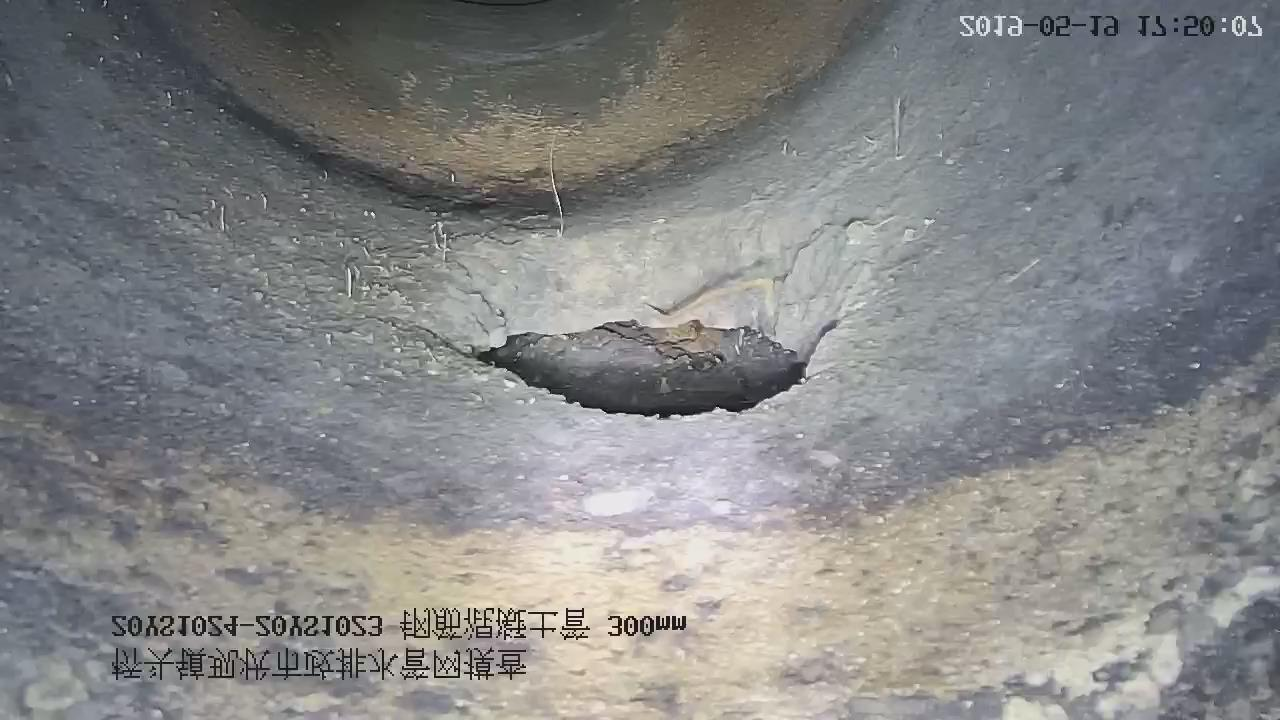PL: (473, 321, 808, 419)
